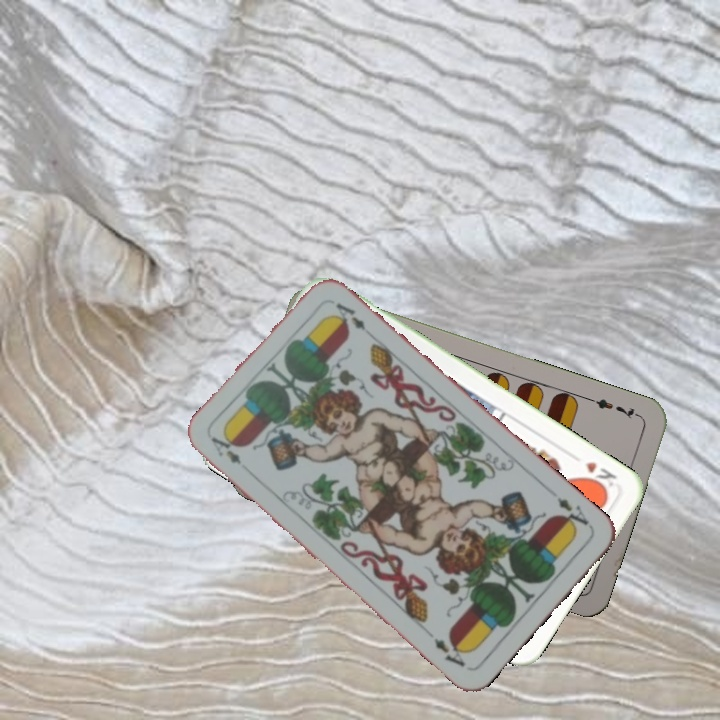E7: (585, 394, 643, 422)
EA: (552, 493, 592, 533), (207, 433, 244, 468)
HK: (580, 457, 620, 494)
